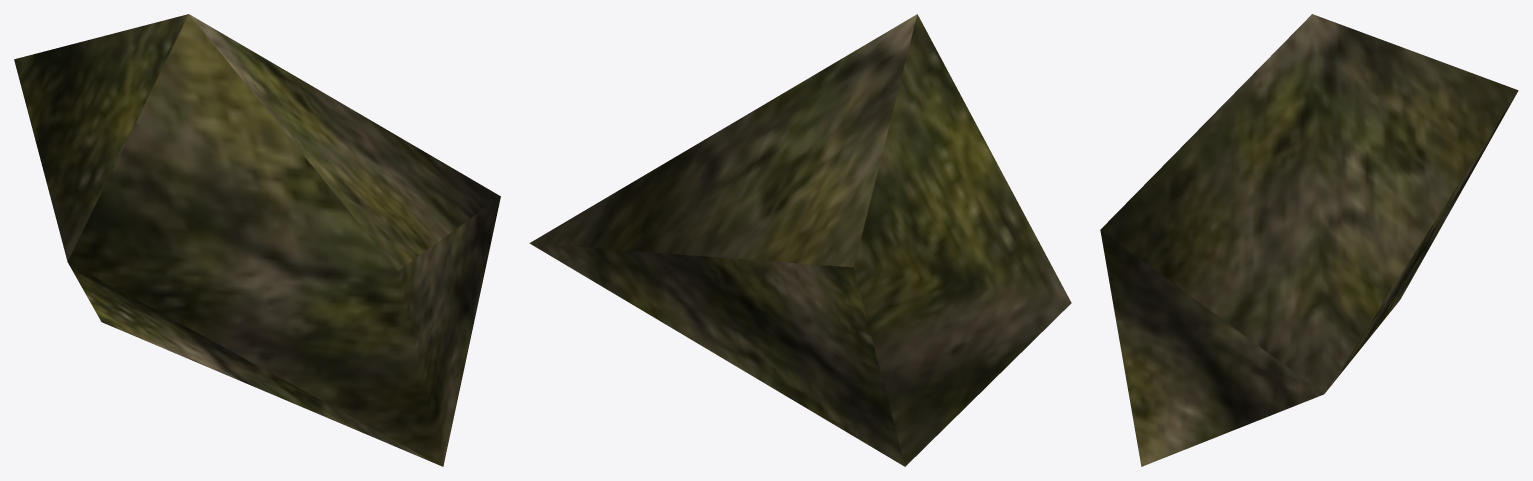
Rendered from rockdebris.gltf.
3 renders of one model, left to right at view 1: azimuth 30°, elevation 25°; view 2: azimuth 150°, elevation 25°; view 3: azimuth 270°, elevation 25°, orthographic. The views are drawn at different scales.
Parts seen in each view (by area): view 1: rock; view 2: rock; view 3: rock.
Boxes of the visible parts, x1,y1,x2,y2 form: rock: [14, 14, 500, 466]; rock: [529, 14, 1071, 466]; rock: [1100, 14, 1518, 466].
Bounding box in the file's own units: 2.87 × 2.61 × 2.59.
1 material, 1 textured.
